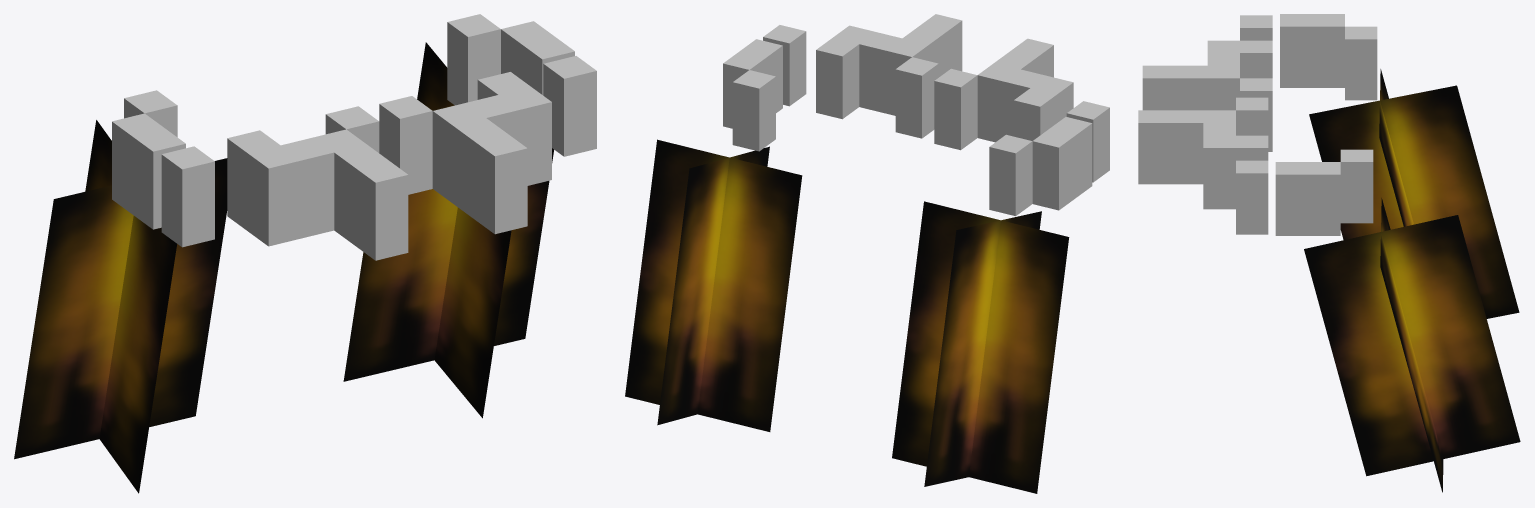
File: invaderBoned_wtf.obj
3 renders of one model, left to right at view 1: azimuth 30°, elevation 25°; view 2: azimuth 150°, elevation 25°; view 3: azimuth 270°, elevation 25°, orthographic. The views are drawn at different scales.
Parts seen in each view (by area): view 1: group2, group1; view 2: group2, group1; view 3: group2, group1.
Part boxes in pixels (box(x1,y1,x2,y2)): group2: box(14, 42, 553, 493); group1: box(112, 14, 596, 260); group2: box(625, 139, 1069, 493); group1: box(723, 14, 1109, 216); group2: box(1304, 69, 1520, 492); group1: box(1138, 14, 1377, 235).
Bounding box in the file's own units: 586 × 439 × 483.
